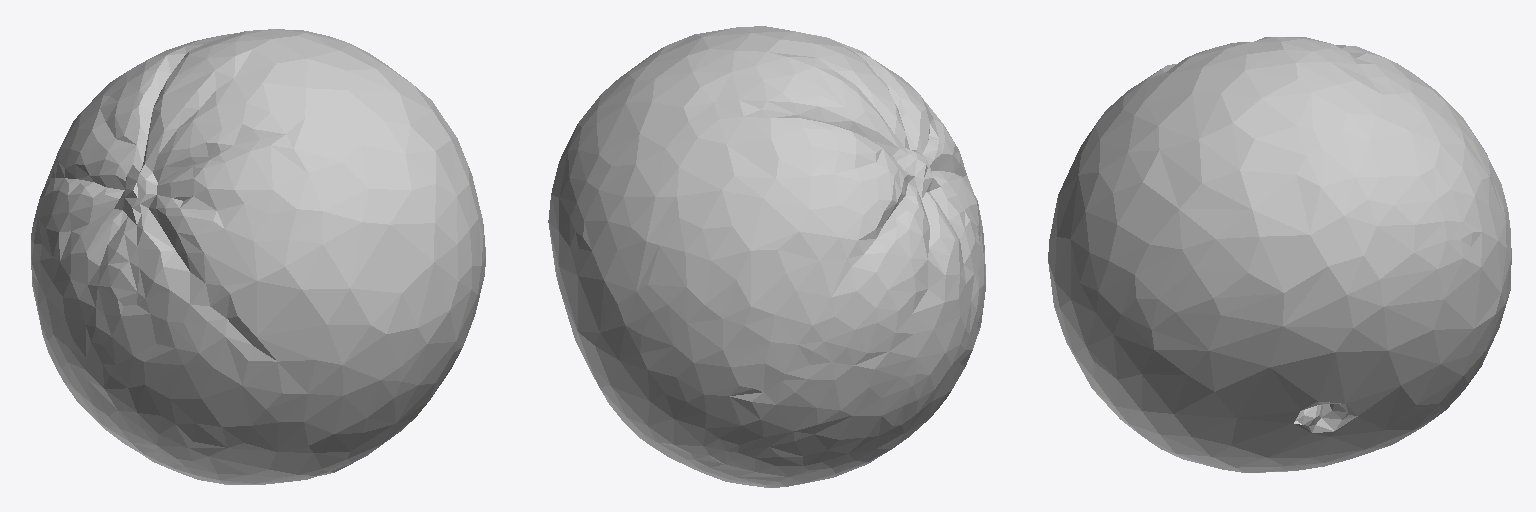
Rendered from orange4.obj.
3 renders of one model, left to right at view 1: azimuth 30°, elevation 25°; view 2: azimuth 150°, elevation 25°; view 3: azimuth 270°, elevation 25°, orthographic.
Parts seen in each view (by area): view 1: Orange3; view 2: Orange3; view 3: Orange3.
Part boxes in pixels (bbox=[...]): Orange3: bbox=[31, 29, 485, 484]; Orange3: bbox=[548, 26, 985, 487]; Orange3: bbox=[1048, 37, 1511, 472].
Size of the model in its own units: 2.37 by 2.43 by 2.48.